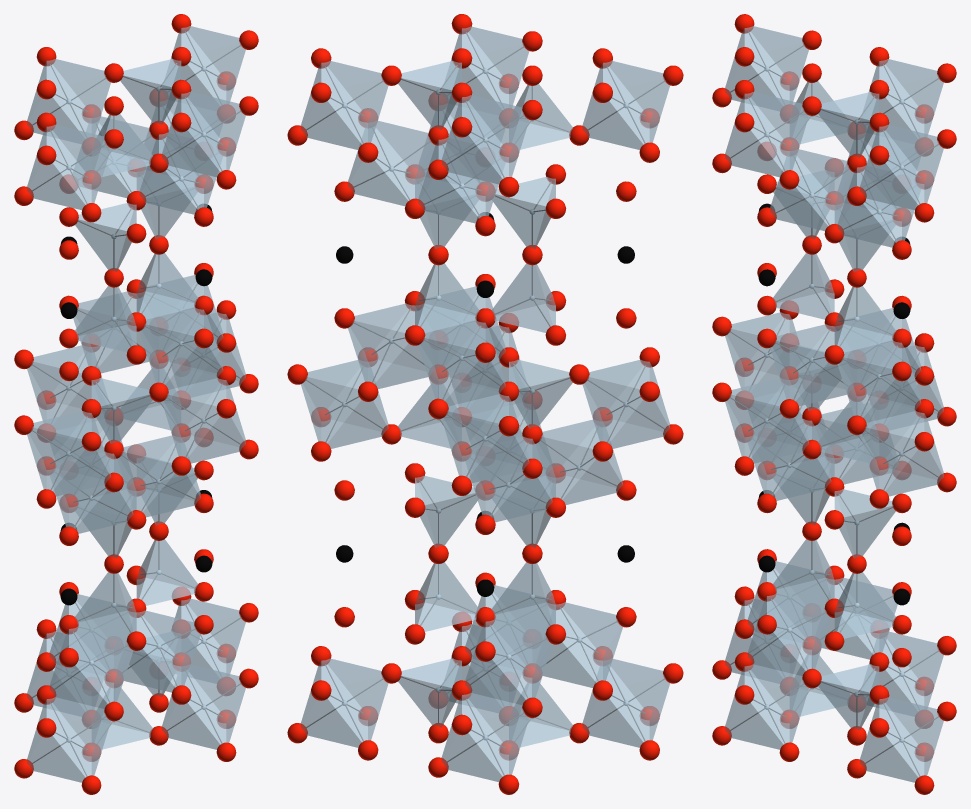
File: beta-alumina.glb
3 renders of one model, left to right at view 1: azimuth 30°, elevation 25°; view 2: azimuth 150°, elevation 25°; view 3: azimuth 270°, elevation 25°, orthographic. The views are drawn at different scales.
Parts seen in each view (by area): view 1: Shape_IndexedFaceSet, atom10_IndexedFaceSet, Shape_Cylinder, atom0_IndexedFaceSet, atom1_IndexedFaceSet; view 2: Shape_IndexedFaceSet, atom10_IndexedFaceSet, Shape_Cylinder, atom0_IndexedFaceSet, atom1_IndexedFaceSet; view 3: Shape_IndexedFaceSet, atom10_IndexedFaceSet, Shape_Cylinder, atom0_IndexedFaceSet, atom1_IndexedFaceSet.
Boxes of the visible parts, left/top/right/bottom form: Shape_IndexedFaceSet: left=27, top=26, right=245, bottom=782; atom10_IndexedFaceSet: left=14, top=14, right=258, bottom=794; Shape_Cylinder: left=32, top=31, right=240, bottom=776; atom0_IndexedFaceSet: left=60, top=204, right=212, bottom=605; atom1_IndexedFaceSet: left=66, top=66, right=206, bottom=742; Shape_IndexedFaceSet: left=301, top=26, right=670, bottom=782; atom10_IndexedFaceSet: left=287, top=14, right=683, bottom=794; Shape_Cylinder: left=306, top=32, right=664, bottom=775; atom0_IndexedFaceSet: left=336, top=212, right=634, bottom=596; atom1_IndexedFaceSet: left=342, top=68, right=628, bottom=740; Shape_IndexedFaceSet: left=725, top=26, right=943, bottom=782; atom10_IndexedFaceSet: left=712, top=14, right=956, bottom=794; Shape_Cylinder: left=730, top=31, right=938, bottom=776; atom0_IndexedFaceSet: left=758, top=203, right=910, bottom=605; atom1_IndexedFaceSet: left=764, top=66, right=904, bottom=742.
Size of the model in its own units: 11.83 by 25.5 by 8.73.
